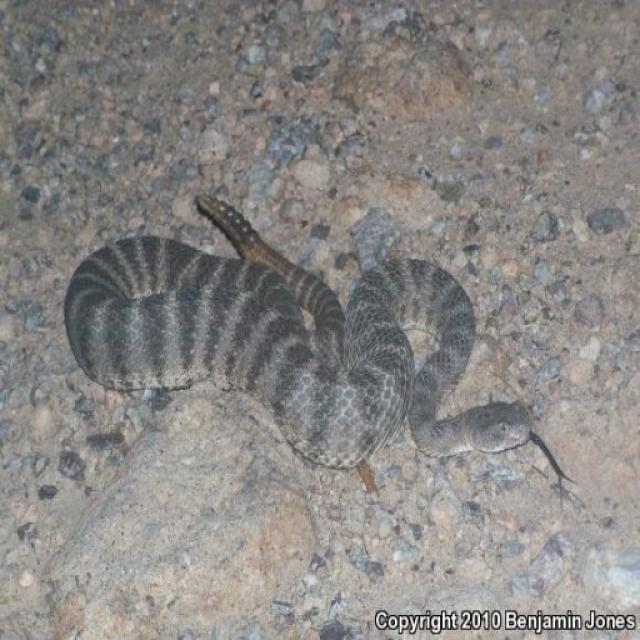snake: (64, 190, 572, 486)
